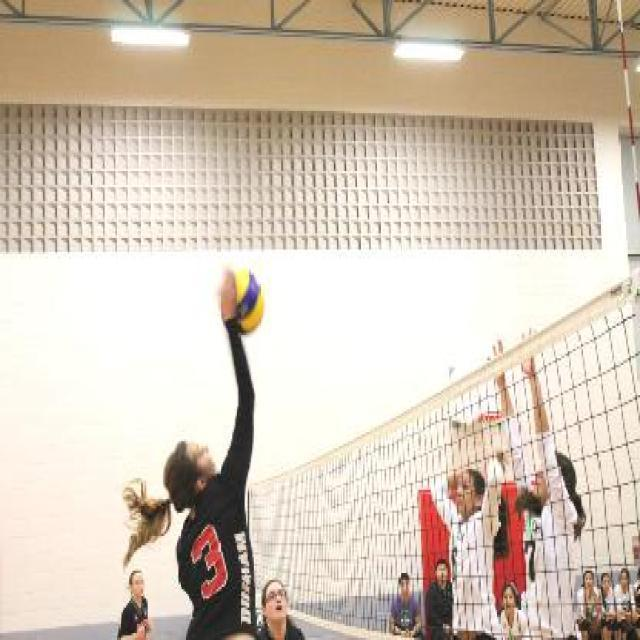volleyball: (233, 270, 266, 332)
